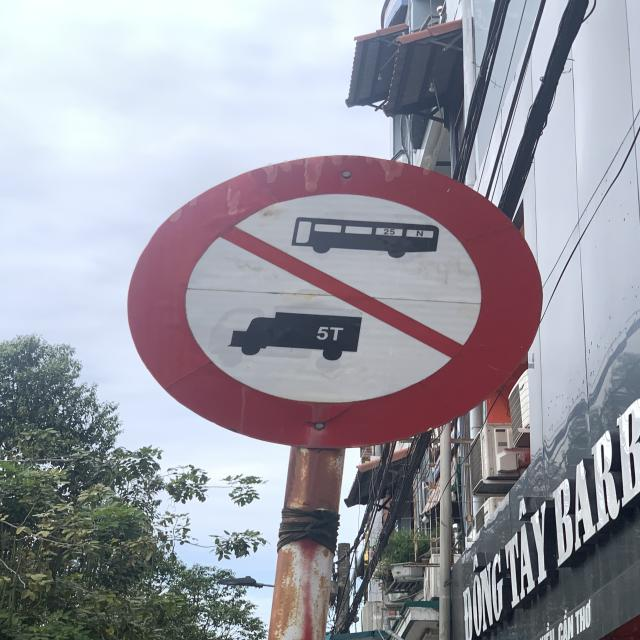Cam_XeTai_XeKhach: (124, 153, 546, 449)
